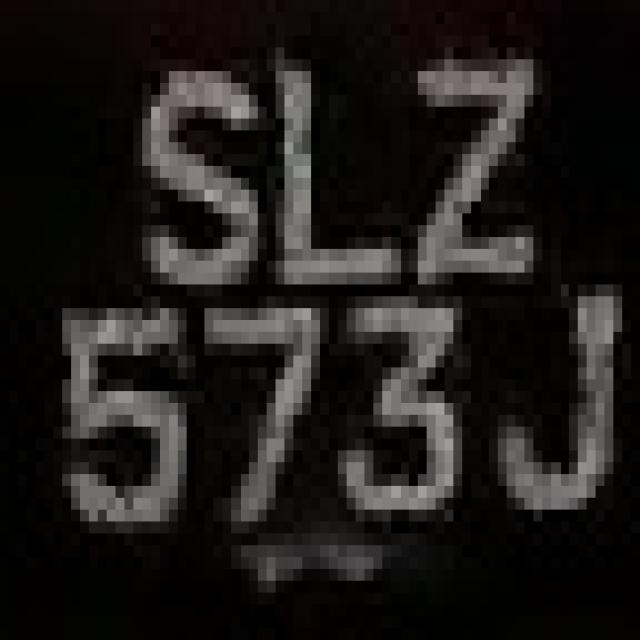3: (302, 237, 471, 522)
5: (45, 249, 186, 545)
7: (169, 261, 329, 545)
J: (480, 237, 640, 545)
L: (249, 59, 418, 320)
S: (124, 24, 258, 320)
Z: (409, 24, 560, 296)
